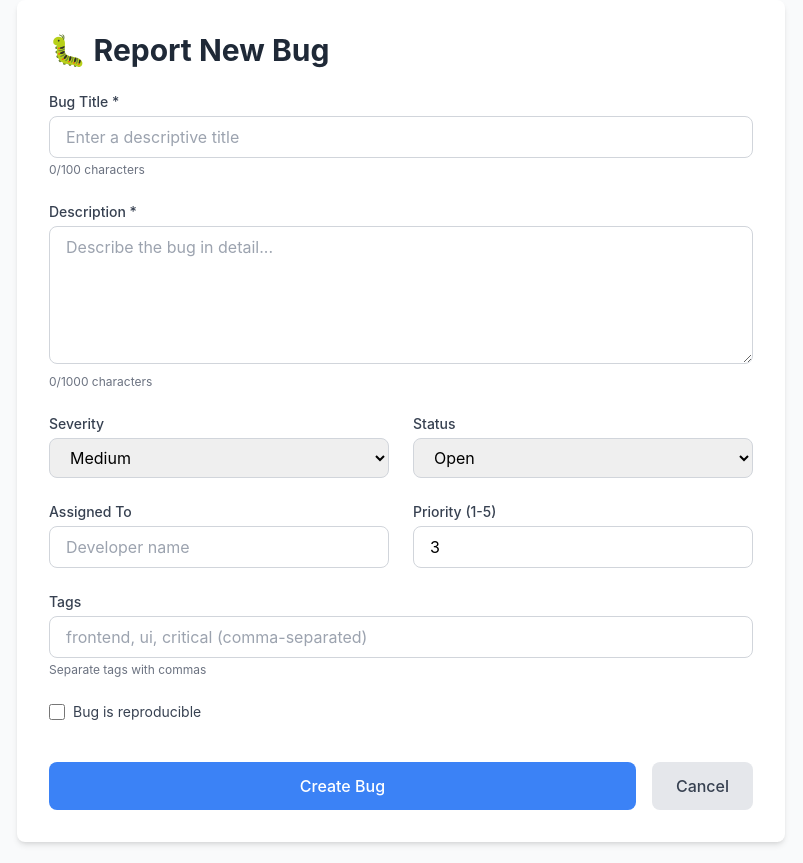
Test: BugForm Component › updates character count as user types
Type "Test" into the field labelled "Bug Title *" at (401, 137), box 49,116 -> 753,158
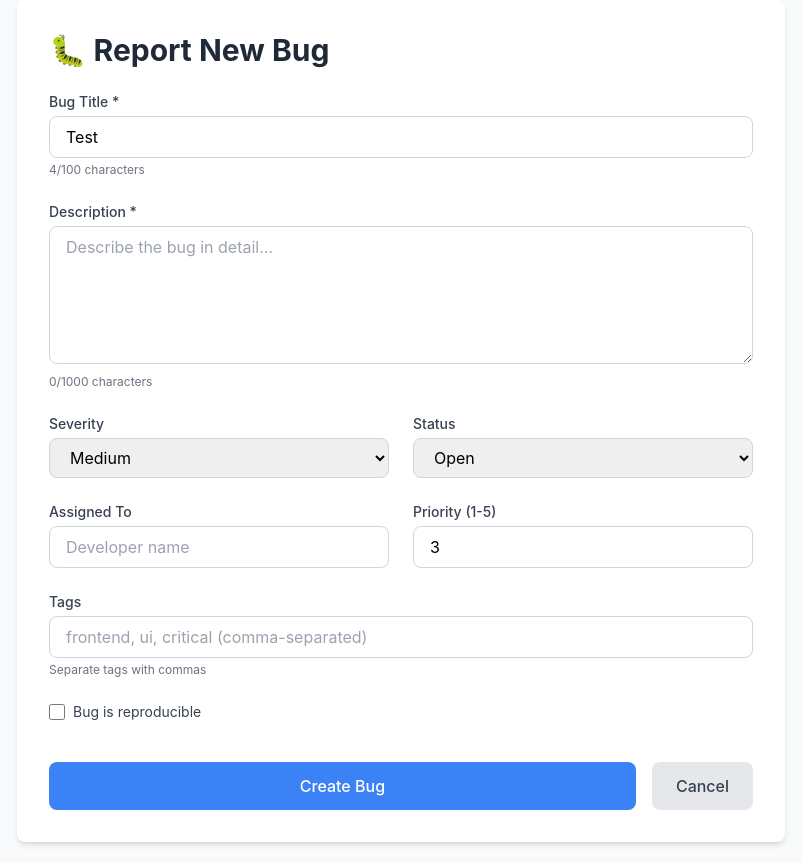
expect the text "4/100 characters" is shown: met, box 49,162 -> 145,177
